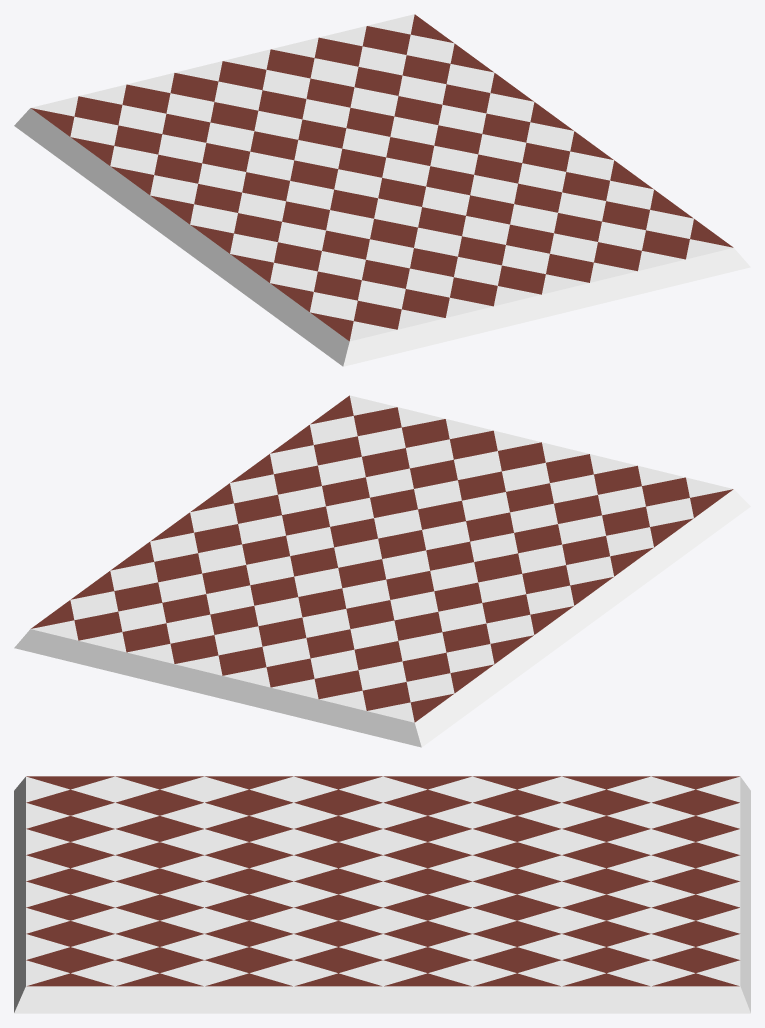
File: cardspade01.gltf
3 renders of one model, top to bottom at view 1: azimuth 30°, elevation 25°; view 2: azimuth 150°, elevation 25°; view 3: azimuth 270°, elevation 25°, orthographic. The views are drawn at different scales.
Visible parts, largest first — view 1: Cube; view 2: Cube; view 3: Cube.
Part boxes in pixels (<box>): Cube: <box>14,14,750,366</box>; Cube: <box>14,395,750,747</box>; Cube: <box>14,776,750,1013</box>.
Size of the model in its own units: 0.0635 by 0.00305 by 0.0888.
1 material, 1 textured.
